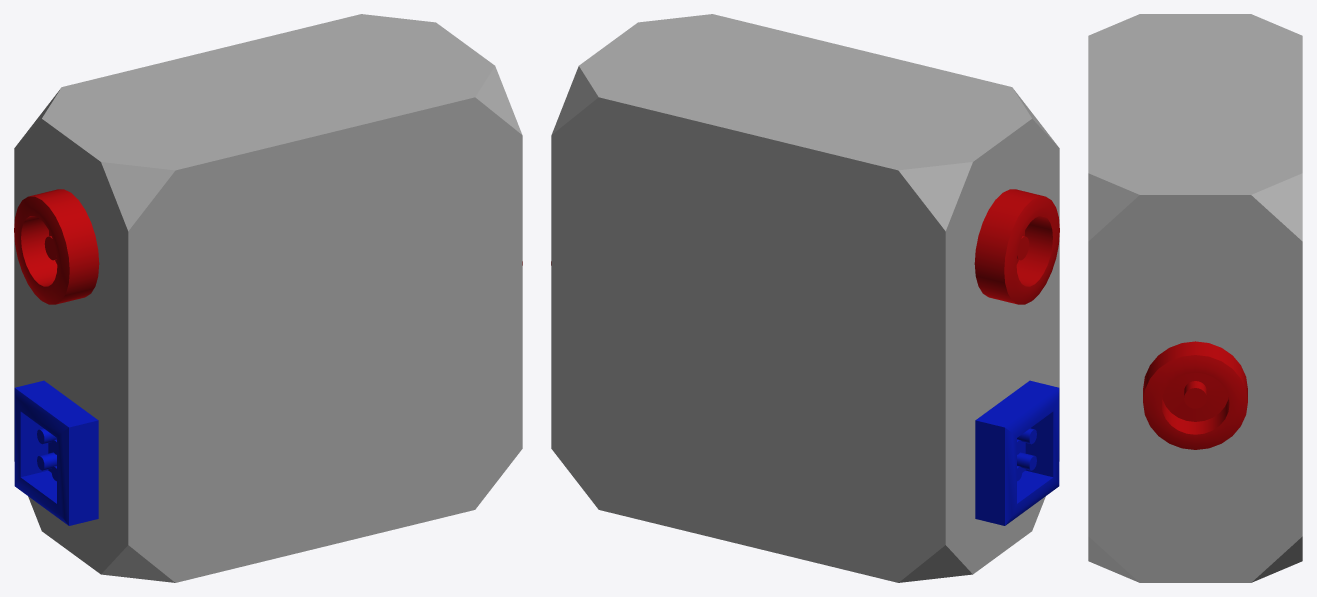
Rendered from PowerRelay.gltf.
The picture shows the model from 3 angles, left to right: view 1: azimuth 30°, elevation 25°; view 2: azimuth 150°, elevation 25°; view 3: azimuth 270°, elevation 25°; orthographic projection. The views are drawn at different scales.
Visible parts, largest first — view 1: box; view 2: box; view 3: box.
Boxes of the visible parts, x1,y1,x2,y2 form: box: (14,14,522,582); box: (551,14,1059,582); box: (1088,14,1302,582).
Bounding box in the file's own units: 0.291 × 0.25 × 0.125.
